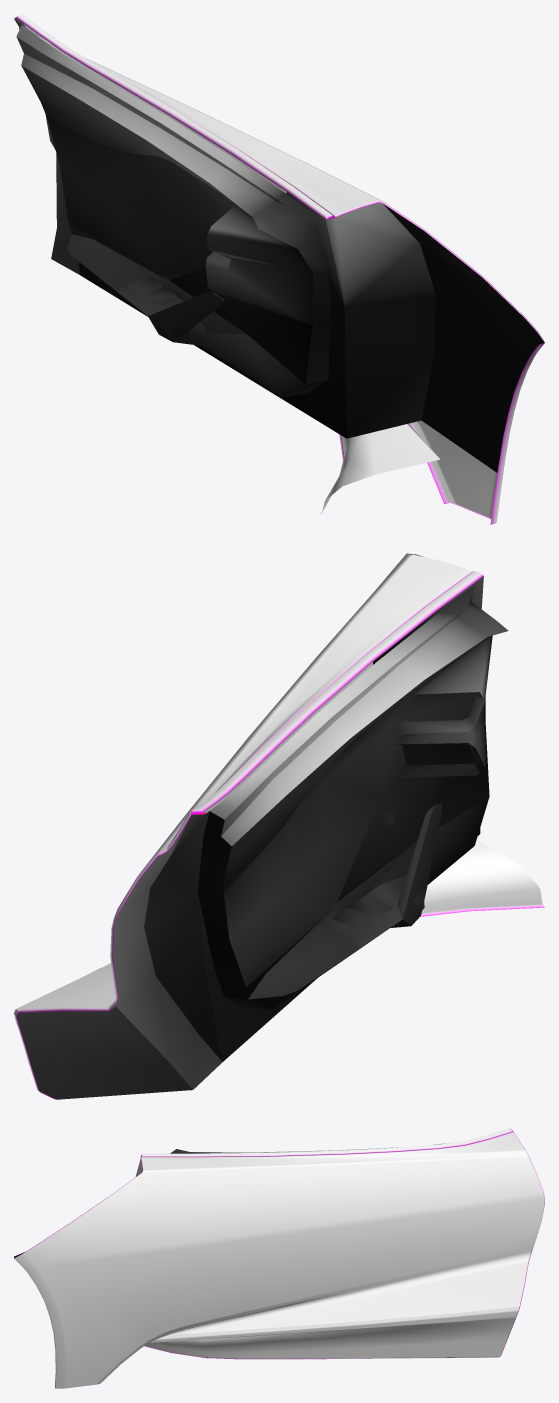
The model's file is Car_Ford_GT_2017_DoorL_SetA.fbx.
The picture shows the model from 3 angles, top to bottom: view 1: azimuth 30°, elevation 25°; view 2: azimuth 150°, elevation 25°; view 3: azimuth 270°, elevation 25°; orthographic projection. The views are drawn at different scales.
Parts seen in each view (by area): view 1: DoorL 6; view 2: DoorL 6; view 3: DoorL 6.
Boxes of the visible parts, x1,y1,x2,y2 form: DoorL 6: [14, 14, 544, 524]; DoorL 6: [14, 553, 544, 1099]; DoorL 6: [14, 1128, 544, 1388].
Size of the model in its own units: 0.4268 by 0.66 by 1.51.
